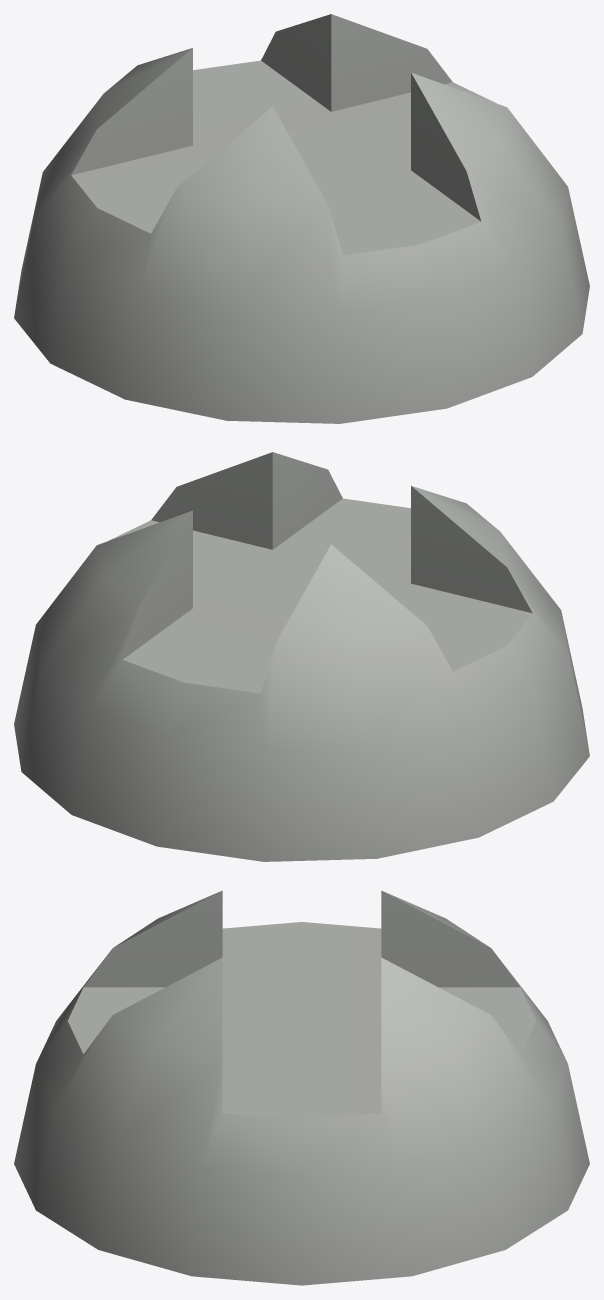
File: Screw_plus.fbx
3 views of the same model, one above another, from view 1: azimuth 30°, elevation 25°; view 2: azimuth 150°, elevation 25°; view 3: azimuth 270°, elevation 25° (orthographic).
Parts seen in each view (by area): view 1: Screw_plus; view 2: Screw_plus; view 3: Screw_plus.
Boxes of the visible parts, box(x1,y1,x2,y2) form: Screw_plus: box(14, 14, 589, 423); Screw_plus: box(14, 452, 589, 861); Screw_plus: box(14, 890, 589, 1285).
Bounding box in the file's own units: 136 × 62.65 × 136.
